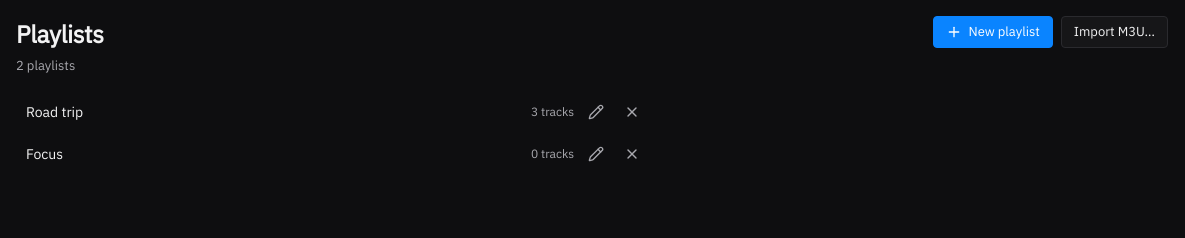
Test: PlaylistsView › rename › rolls the name back and toasts when the rename fails
The width and height of the screenshot is (1185, 238).
Click the button named "Rename playlist" next to "0 tracks" at (596, 154), box [582,142,610,166]
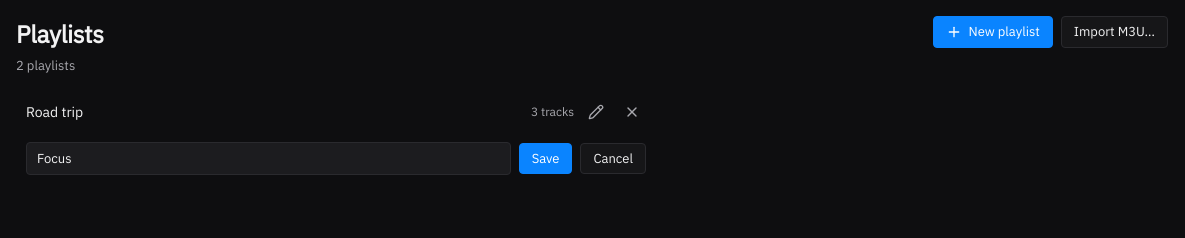
Replace the text in the field named "New playlist name" with "Changed" at (268, 158), box [26,142,511,175]
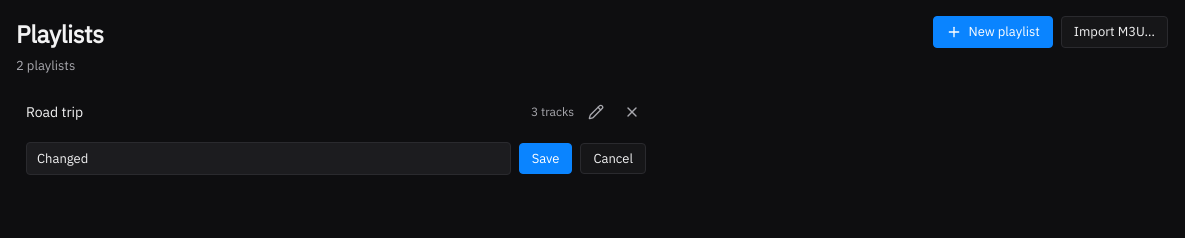
Press Enter in the field named "New playlist name", box [26,142,511,175]
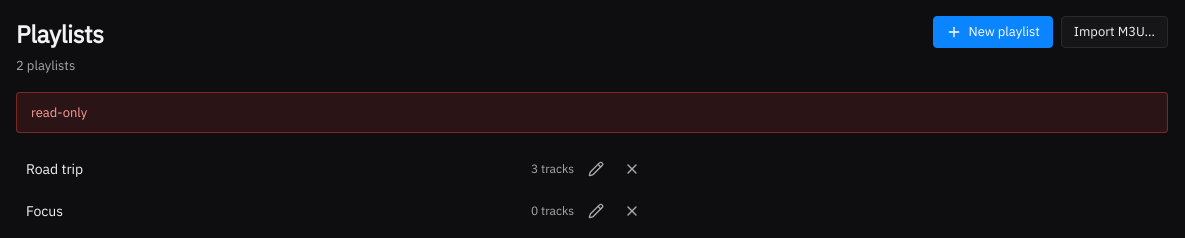
Check: the button "Focus" is shown, box [26,201,523,221]
